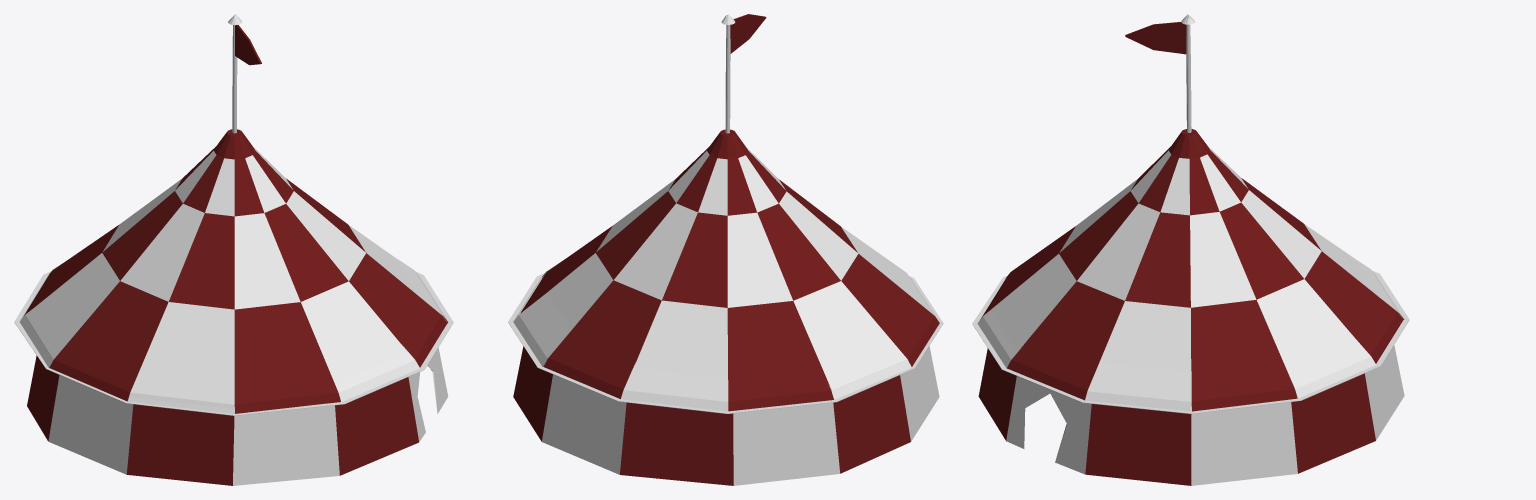
Rendered from tents(new and imprvoed).fbx.
3 renders of one model, left to right at view 1: azimuth 30°, elevation 25°; view 2: azimuth 150°, elevation 25°; view 3: azimuth 270°, elevation 25°, orthographic.
Visible parts, largest first — view 1: Cylinder.001, Cylinder; view 2: Cylinder.001, Cylinder; view 3: Cylinder.001, Cylinder.
Boxes of the visible parts, x1,y1,x2,y2 form: Cylinder.001: [14, 14, 453, 415]; Cylinder: [27, 347, 448, 485]; Cylinder.001: [508, 14, 943, 413]; Cylinder: [513, 346, 939, 485]; Cylinder.001: [972, 14, 1521, 414]; Cylinder: [978, 345, 1404, 485].
Size of the model in its own units: 1183 by 1156 by 1492.
